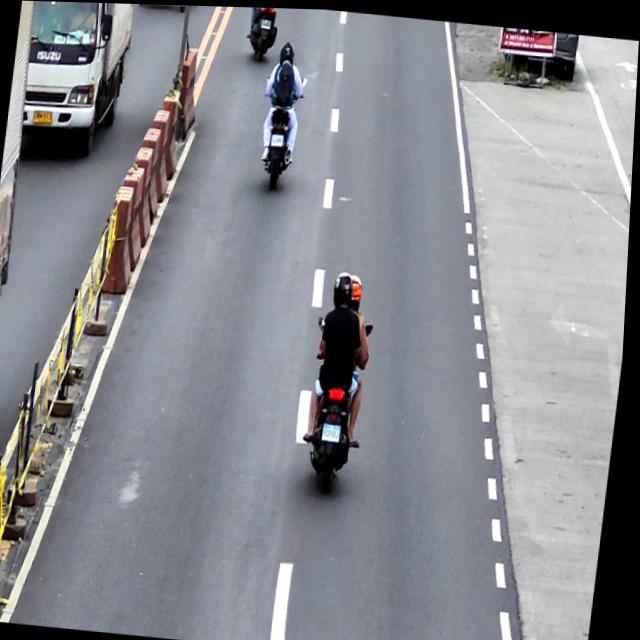License-Plate: (325, 419, 345, 440), (271, 130, 285, 146), (260, 16, 272, 28)
Motorcycle: (302, 310, 377, 494), (254, 69, 308, 189), (245, 6, 277, 60)
